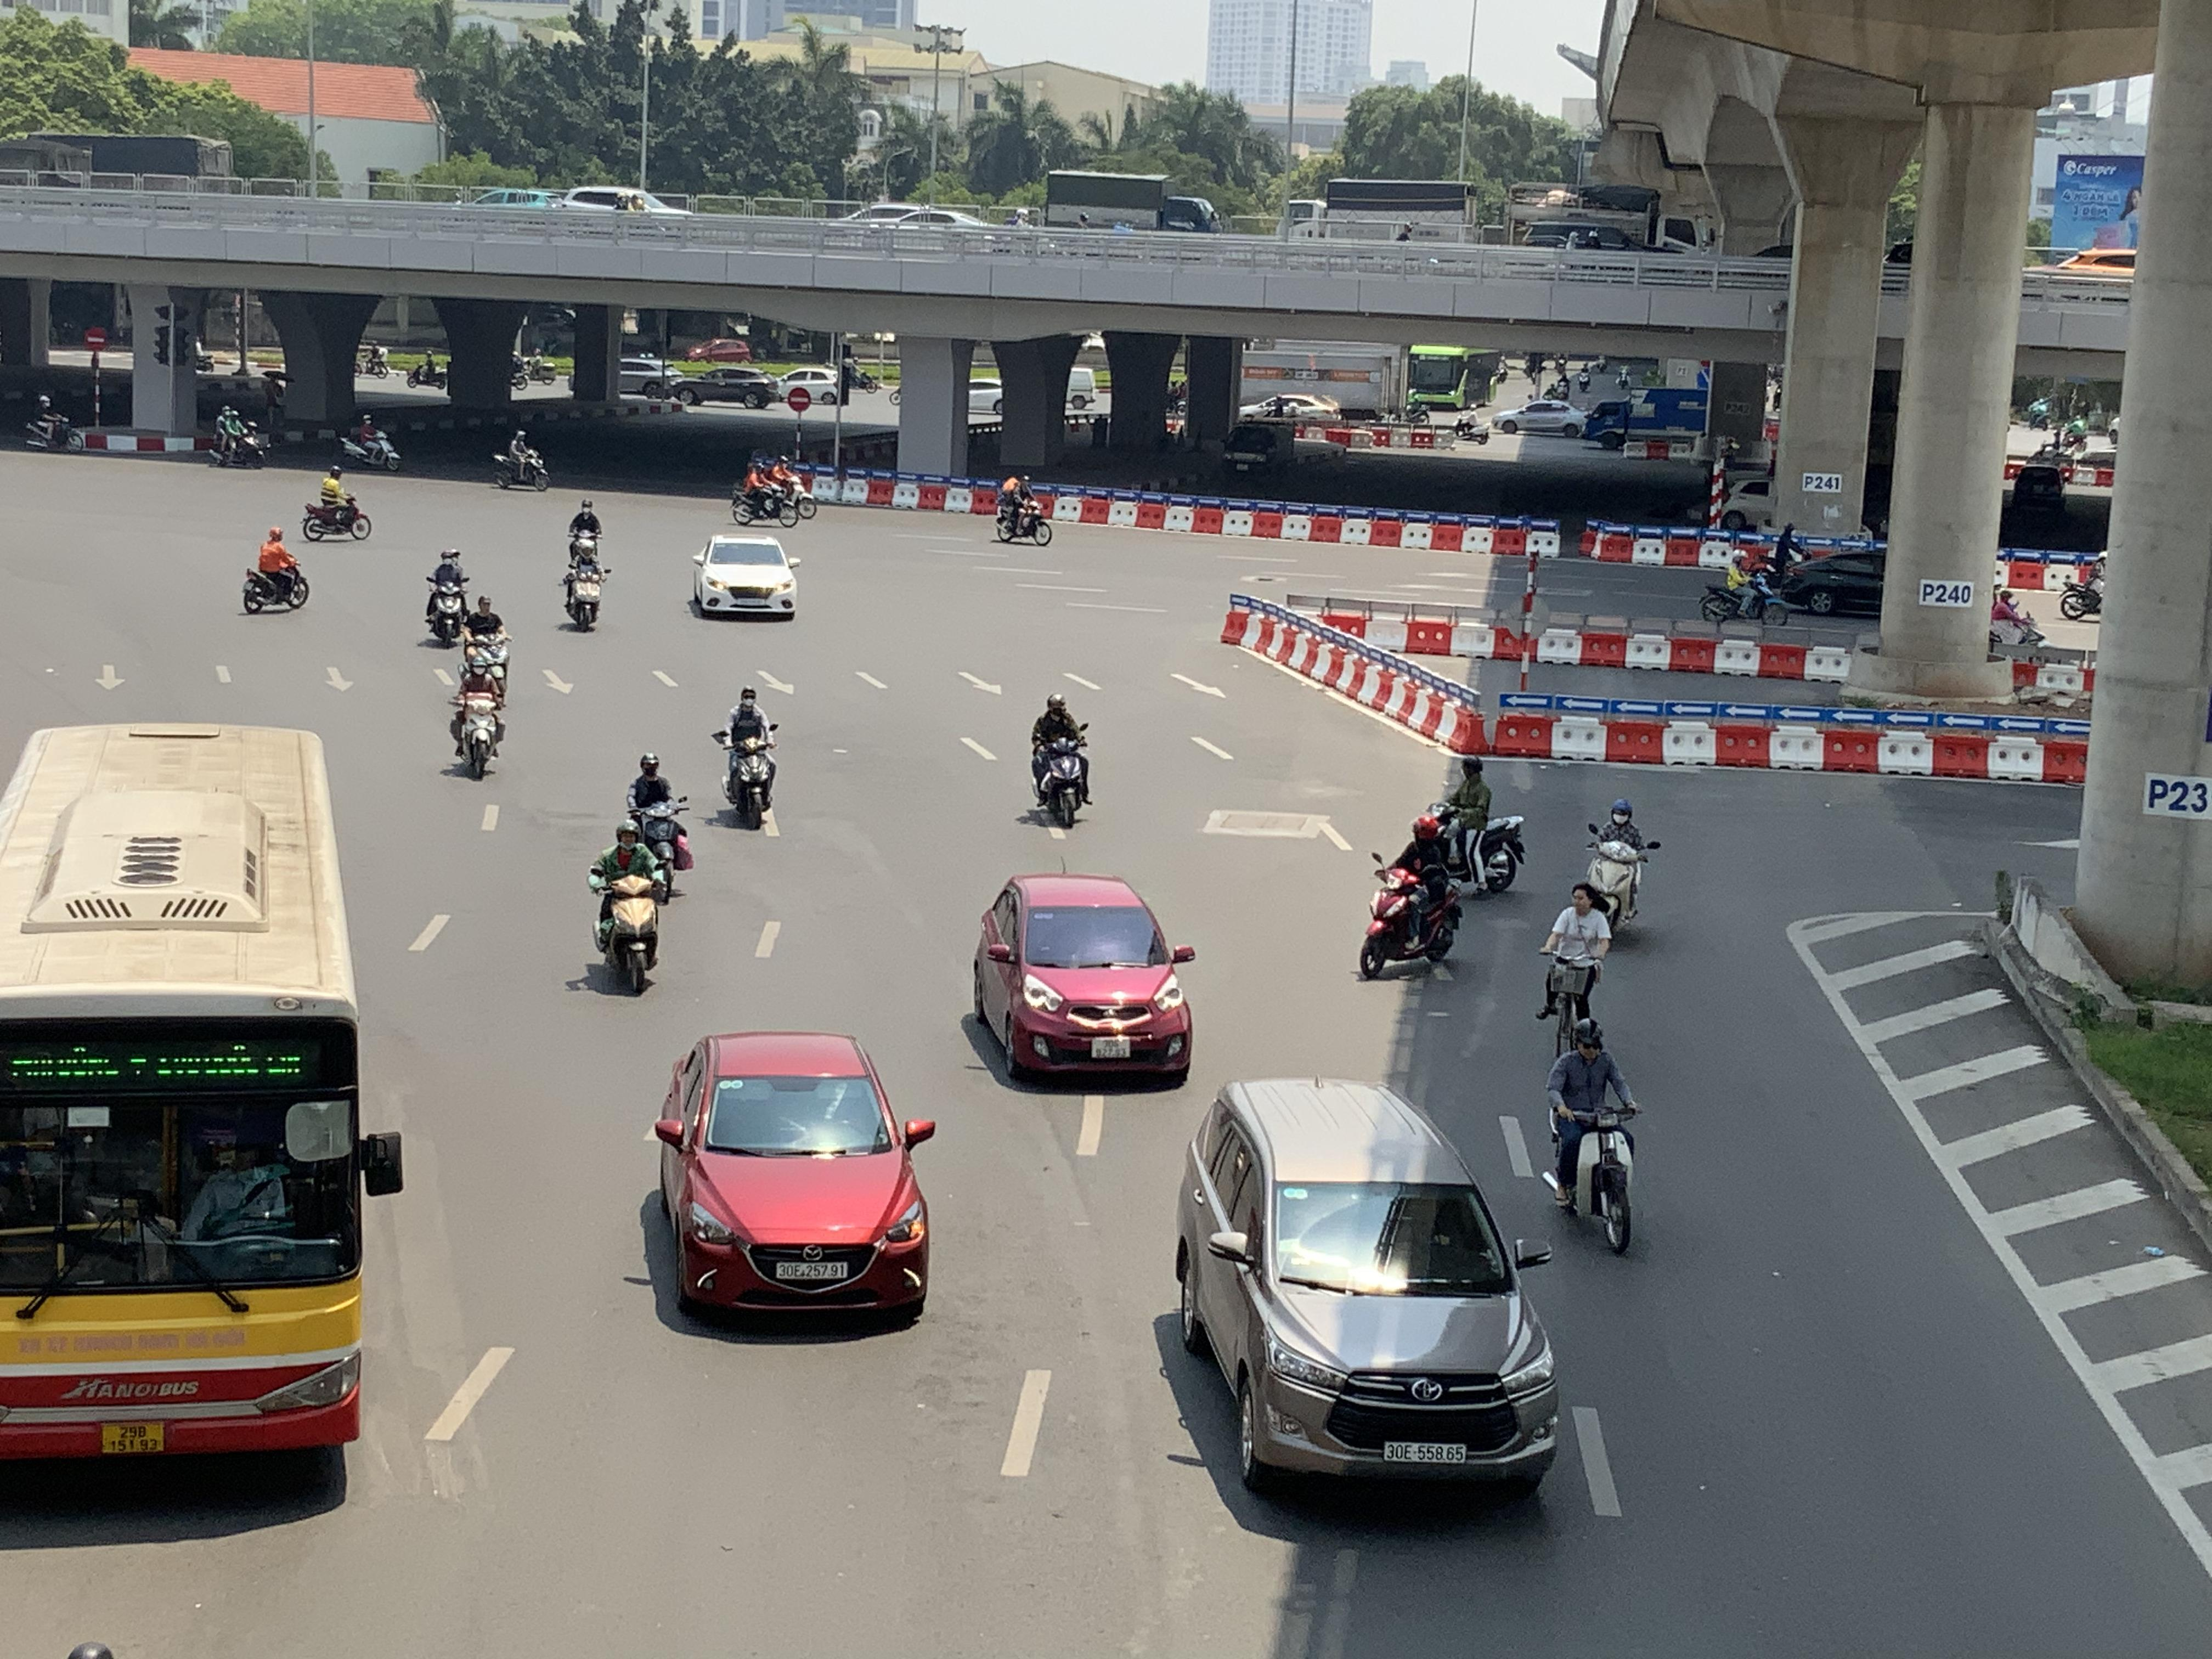BSD: (1383, 1441, 1465, 1464), (777, 1262, 846, 1281)
BSV: (101, 1422, 164, 1453), (1092, 1037, 1130, 1058)
bus: (0, 718, 404, 1478)
car: (1172, 1075, 1561, 1499), (643, 1030, 939, 1330), (968, 871, 1197, 1087), (688, 533, 798, 619), (671, 364, 775, 408), (1493, 397, 1587, 436)
motorbike: (1545, 1018, 1641, 1256), (1357, 814, 1465, 981), (1418, 755, 1526, 896), (589, 817, 664, 997), (1540, 882, 1611, 1044), (1585, 796, 1656, 936), (624, 751, 693, 892), (714, 685, 779, 830), (1028, 692, 1090, 830), (448, 647, 505, 779), (1698, 545, 1785, 624), (242, 526, 310, 613), (730, 455, 803, 526), (301, 467, 371, 542), (462, 592, 512, 690), (423, 547, 472, 647), (1986, 582, 2045, 659), (561, 537, 606, 631), (993, 476, 1054, 545), (334, 411, 401, 472), (493, 425, 552, 491), (23, 394, 85, 453), (211, 401, 265, 469), (2059, 552, 2104, 620), (564, 498, 604, 565), (1451, 403, 1489, 444)
